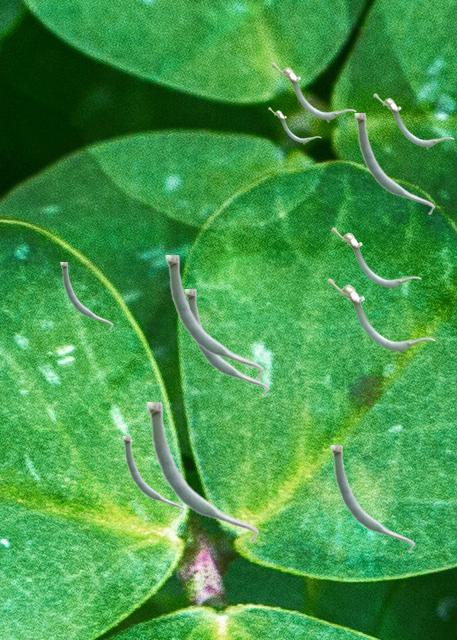french_bean: (146, 402, 258, 543), (165, 255, 263, 379), (330, 445, 414, 552), (185, 289, 268, 396), (354, 113, 434, 214), (327, 278, 434, 353), (331, 227, 420, 289), (271, 62, 355, 121), (122, 436, 183, 514), (373, 93, 453, 148), (60, 262, 112, 329), (268, 107, 320, 143)
